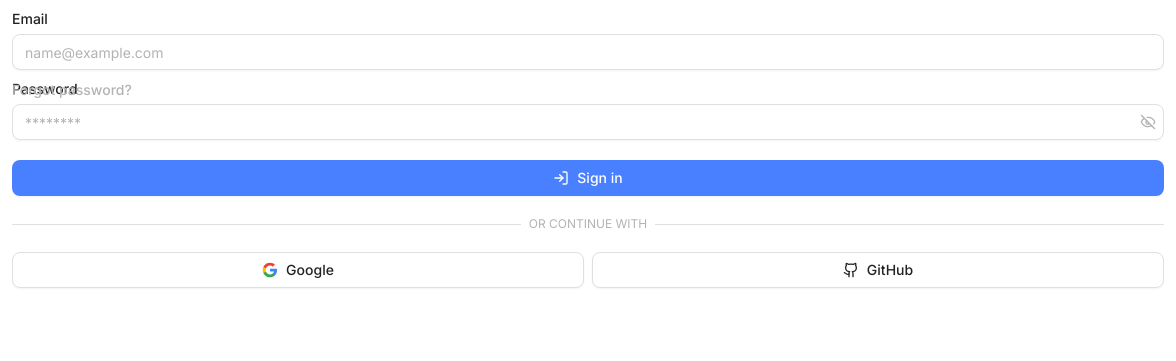
Test case: SignInForm Component › displays validation errors when submitting empty form
Click the button "Sign in" at [588, 178], box [12, 160, 1164, 196]
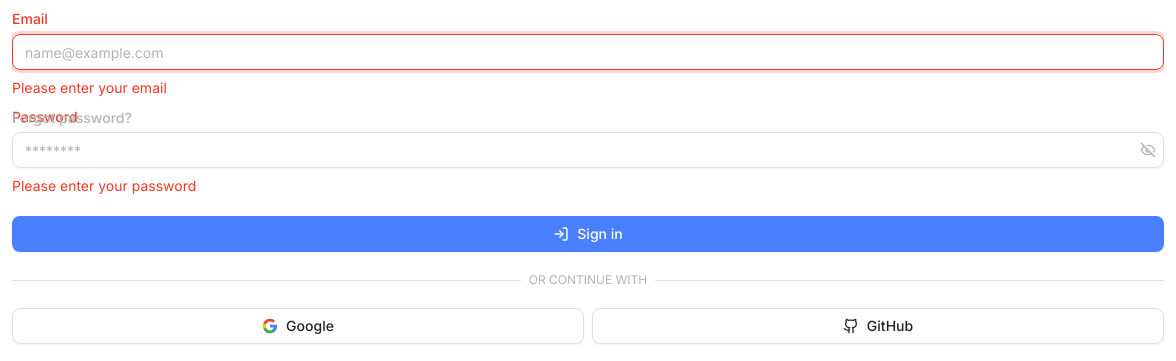
Now the text "Please enter your email" is shown, box [12, 79, 167, 96]
Now the text "Please enter your password" is shown, box [12, 177, 196, 194]
